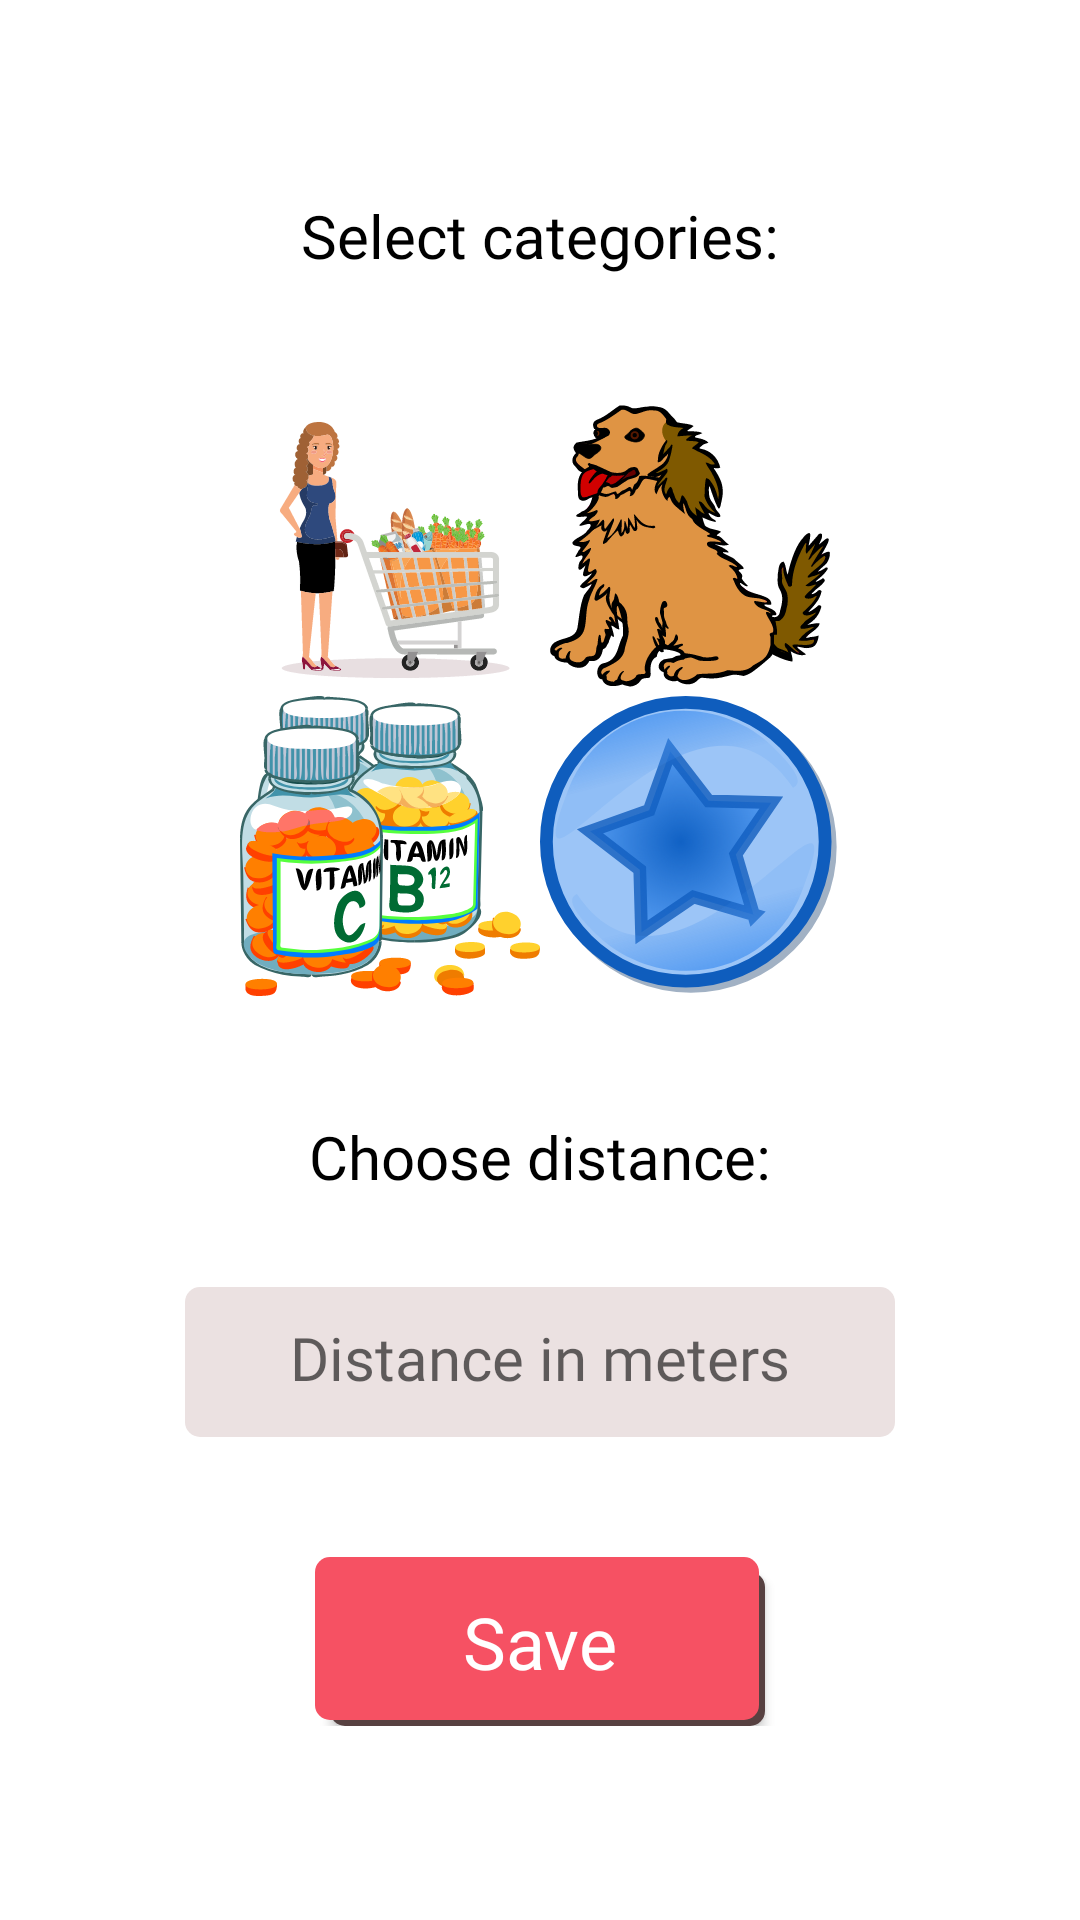

Icons on this 1080×1920 Android screen, each with its box as (x1, y1, x2, y2):
dog: (550, 405, 830, 687)
pills: (240, 696, 540, 996)
shopping: (280, 422, 509, 678)
starblue: (540, 696, 837, 993)
